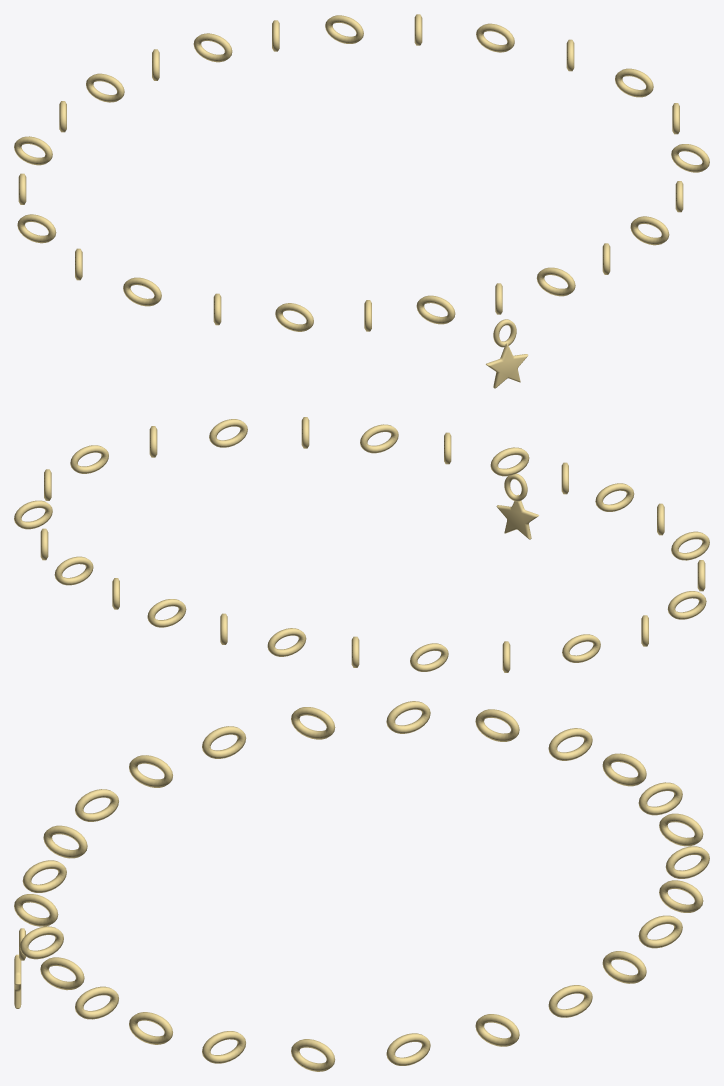
The model's file is restart_chain_gold_pig.glb.
3 renders of one model, top to bottom at view 1: azimuth 30°, elevation 25°; view 2: azimuth 150°, elevation 25°; view 3: azimuth 270°, elevation 25°, orthographic. The views are drawn at different scales.
Parts seen in each view (by area): view 1: Estrella.002, Eslabón.059, Eslabón.053, Eslabón.061, Eslabón.077, Eslabón.055, Eslabón.065, Eslabón.067, Eslabón.073, Eslabón.069, Eslabón.071, Eslabón.057 (+2 smaller); view 2: Estrella.002, Eslabón.054, Eslabón.060, Eslabón.074, Eslabón.052, Eslabón.062, Eslabón.066, Eslabón.068, Eslabón.070, Eslabón.072, Eslabón.056, Eslabón.058 (+2 smaller); view 3: Eslabón.066, Eslabón.067, Eslabón.068, Eslabón.063, Eslabón.076, Eslabón.054, Eslabón.055, Eslabón.059, Eslabón.074, Eslabón.053, Eslabón.060, Eslabón.065 (+14 smaller).
Part boxes in pixels (<box>): Estrella.002: <box>486,343,528,388</box>; Eslabón.059: <box>615,68,653,97</box>; Eslabón.053: <box>536,267,575,296</box>; Eslabón.061: <box>476,23,514,52</box>; Eslabón.077: <box>416,295,455,324</box>; Eslabón.055: <box>630,216,669,245</box>; Eslabón.065: <box>193,33,232,62</box>; Eslabón.067: <box>86,73,124,102</box>; Eslabón.073: <box>123,277,161,306</box>; Eslabón.069: <box>14,136,52,165</box>; Eslabón.071: <box>17,214,56,243</box>; Eslabón.057: <box>671,144,709,172</box>; Estrella.002: <box>496,494,538,539</box>; Eslabón.054: <box>360,424,398,453</box>; Eslabón.060: <box>14,500,52,529</box>; Eslabón.074: <box>671,531,709,560</box>; Eslabón.052: <box>490,447,529,476</box>; Eslabón.062: <box>54,556,93,585</box>; Eslabón.066: <box>267,628,306,656</box>; Eslabón.068: <box>410,643,448,671</box>; Eslabón.070: <box>562,634,600,662</box>; Eslabón.072: <box>667,591,706,619</box>; Eslabón.056: <box>209,419,247,447</box>; Eslabón.058: <box>70,445,108,473</box>; Eslabón.066: <box>659,813,703,846</box>; Eslabón.067: <box>638,782,682,815</box>; Eslabón.068: <box>602,753,646,786</box>; Eslabón.063: <box>638,915,682,948</box>; Eslabón.076: <box>43,825,87,858</box>; Eslabón.054: <box>40,957,84,990</box>; Eslabón.055: <box>75,986,118,1019</box>; Eslabón.059: <box>386,1033,430,1065</box>; Eslabón.074: <box>129,755,172,787</box>; Eslabón.053: <box>20,926,63,959</box>; Eslabón.060: <box>475,1014,519,1046</box>; Eslabón.065: <box>665,846,709,878</box>.
Bounding box in the file's own units: 0.7125 × 0.1488 × 0.6091.
